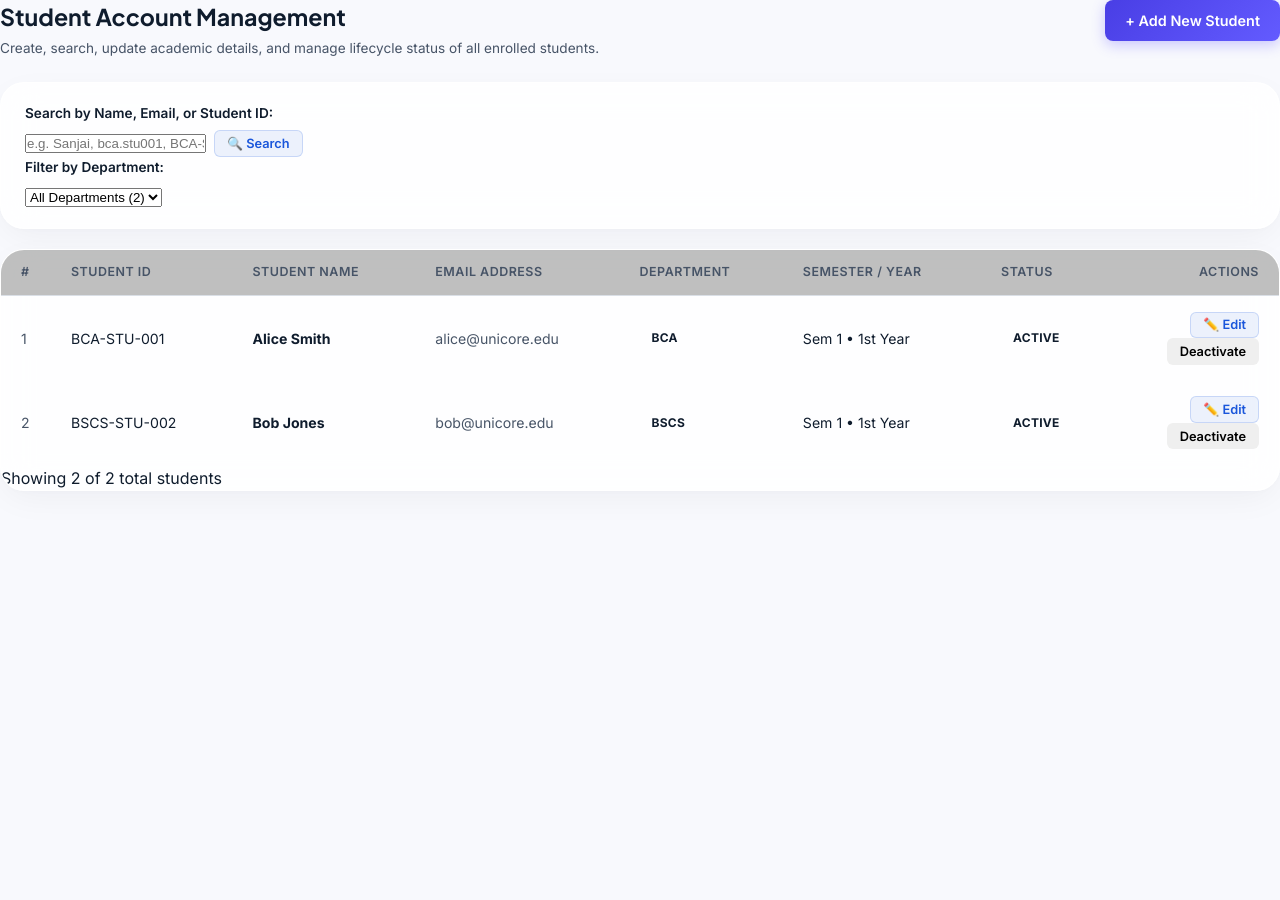
Admin Portal — Student Creation & Automatic Enrollment Tests › handles case where no matching semester courses exist with informative message
Check: the text "Alice Smith" is shown, box top-left (252, 330), bottom-right (330, 347)
Click the button "+ Add New Student".
click(1193, 20)  # box top-left (1105, 0), bottom-right (1279, 41)
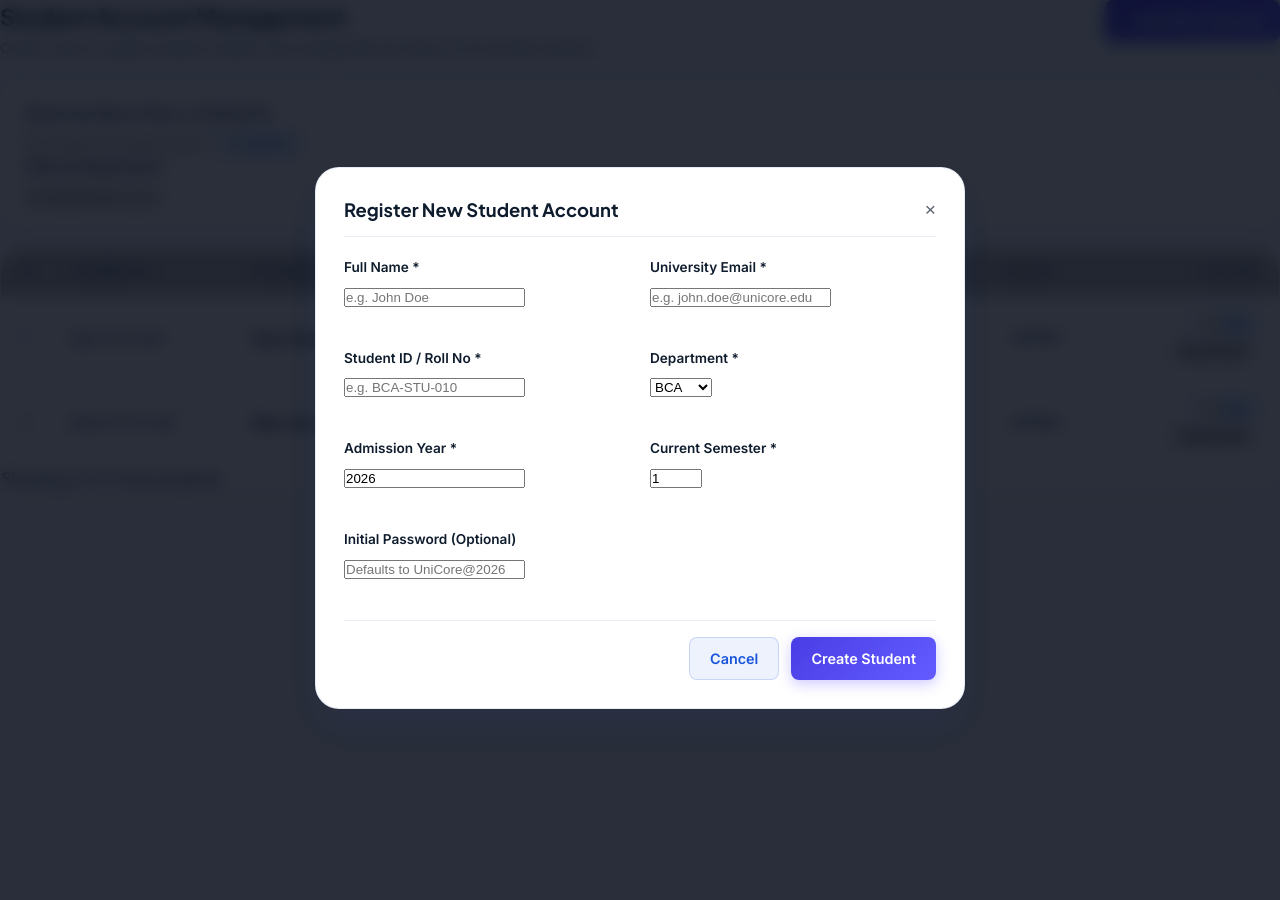
Type "David Miller" into the field labelled "Full Name *".
click(434, 297); type("David Miller")  # box top-left (344, 288), bottom-right (525, 306)
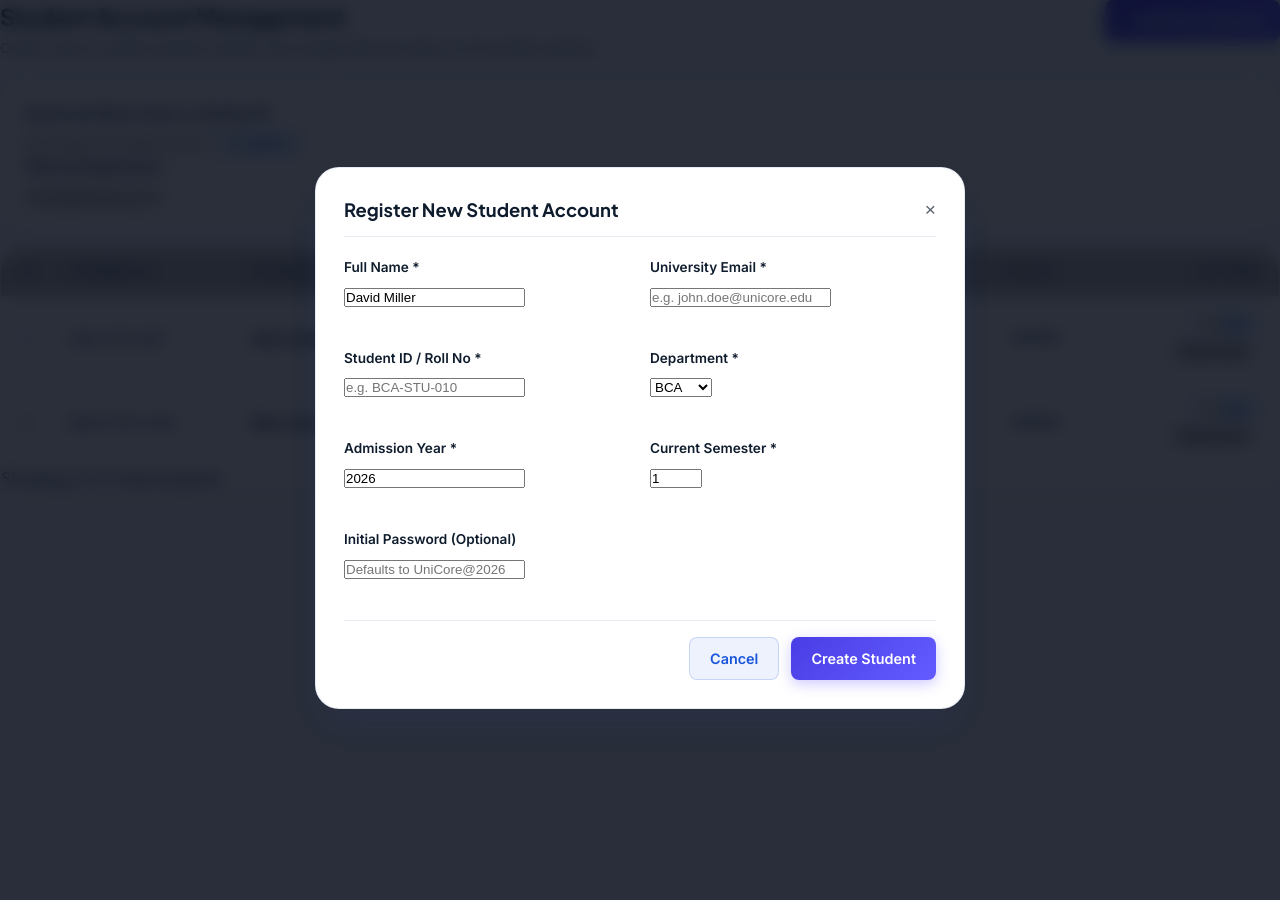
Type "david@unicore.edu" into the field labelled "University Email *".
click(740, 297); type("david@unicore.edu")  # box top-left (650, 288), bottom-right (831, 306)
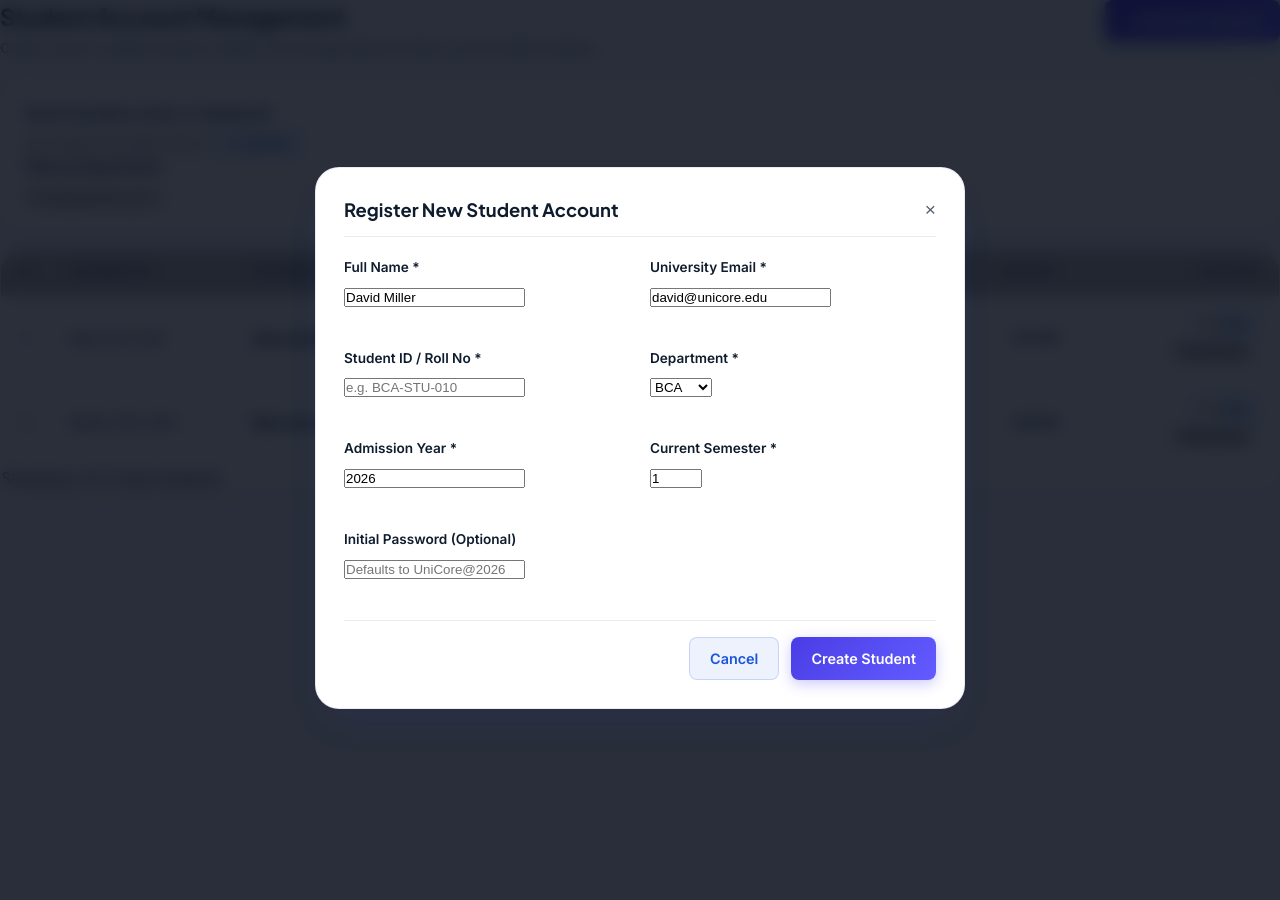
Type "BCA-STU-099" into the field labelled "Student ID / Roll No *".
click(434, 388); type("BCA-STU-099")  # box top-left (344, 378), bottom-right (525, 397)
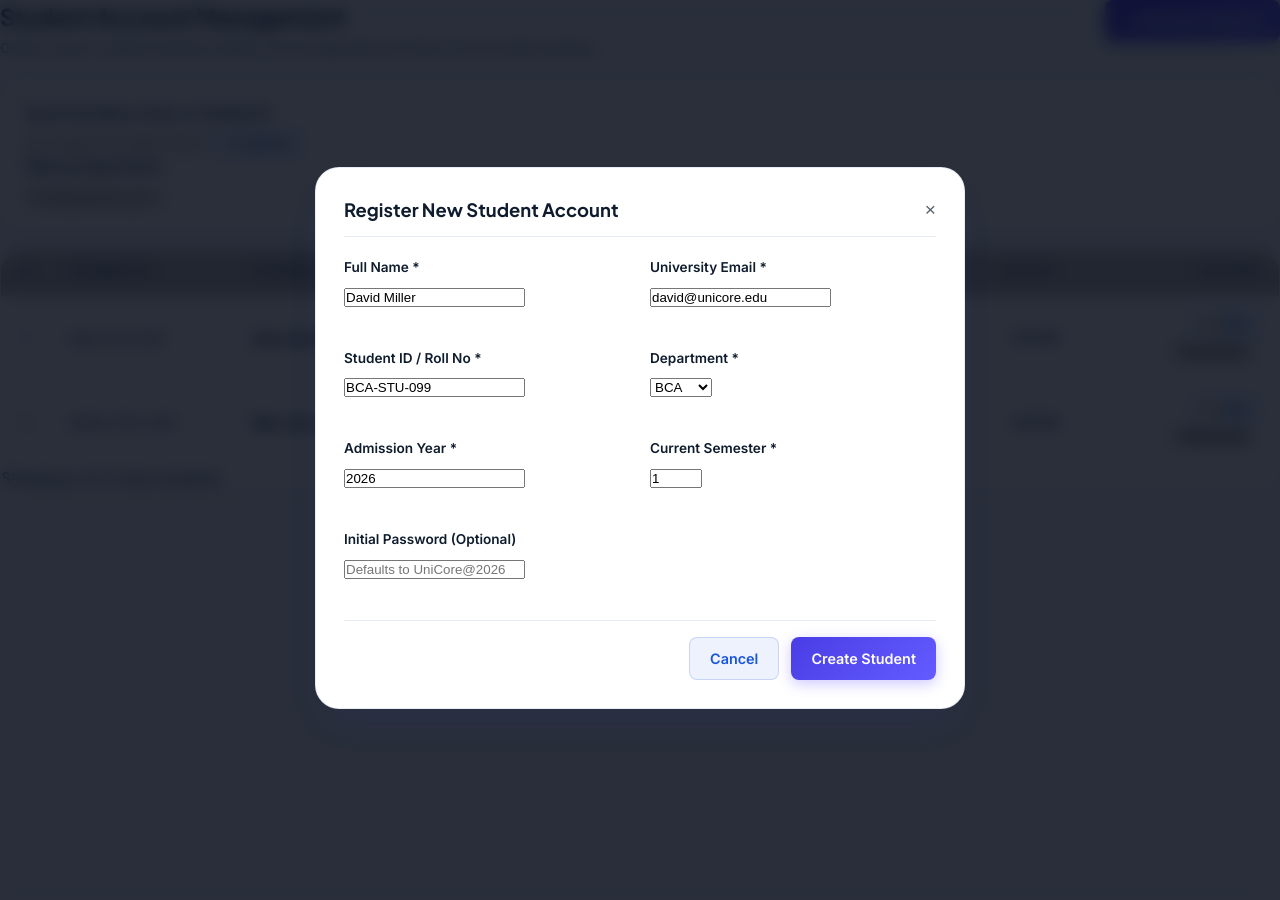
Replace the text in the number field labelled "Current Semester *" with "8" at (676, 479), box top-left (650, 469), bottom-right (702, 488)
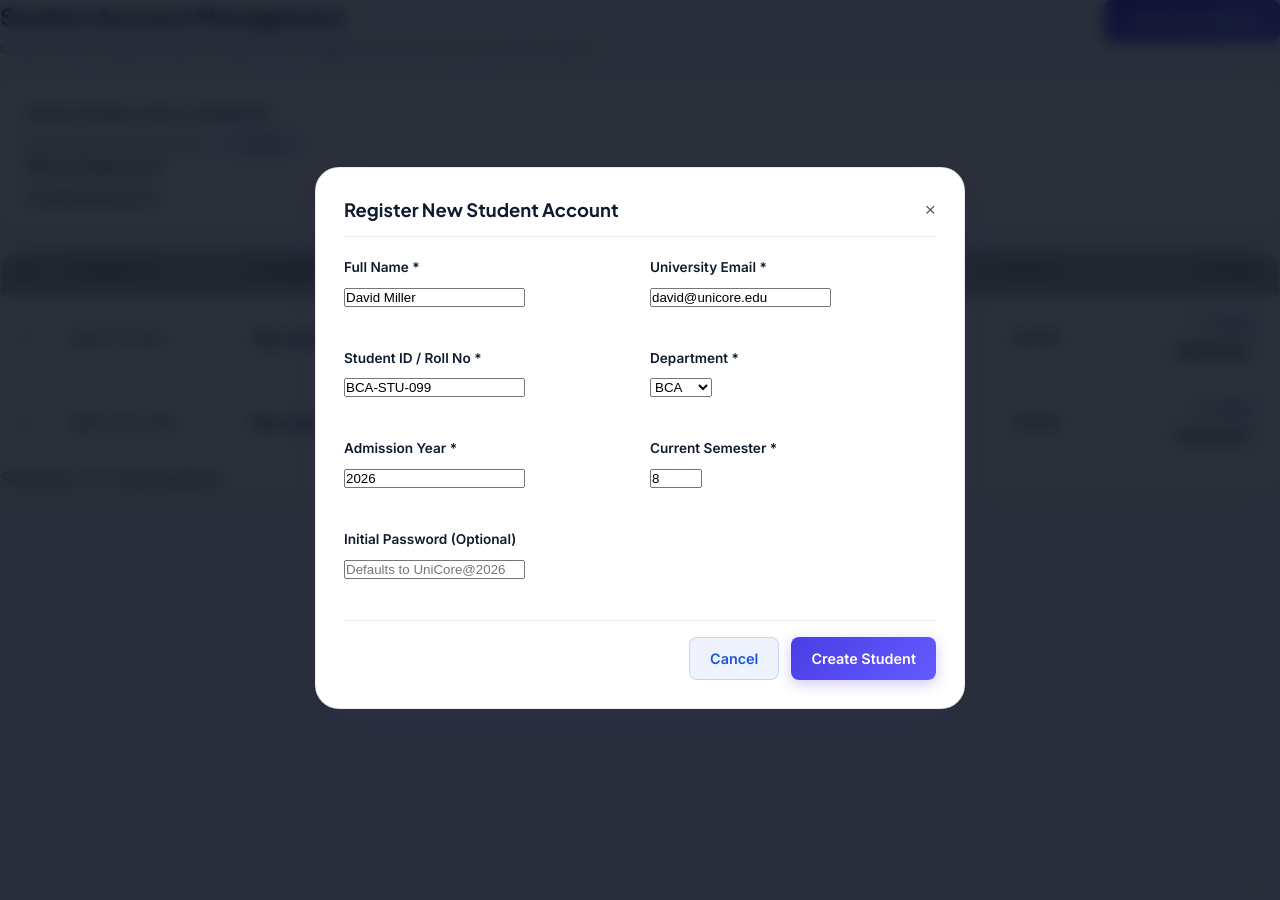
Click the button "Create Student".
click(864, 658)  # box top-left (791, 637), bottom-right (936, 680)
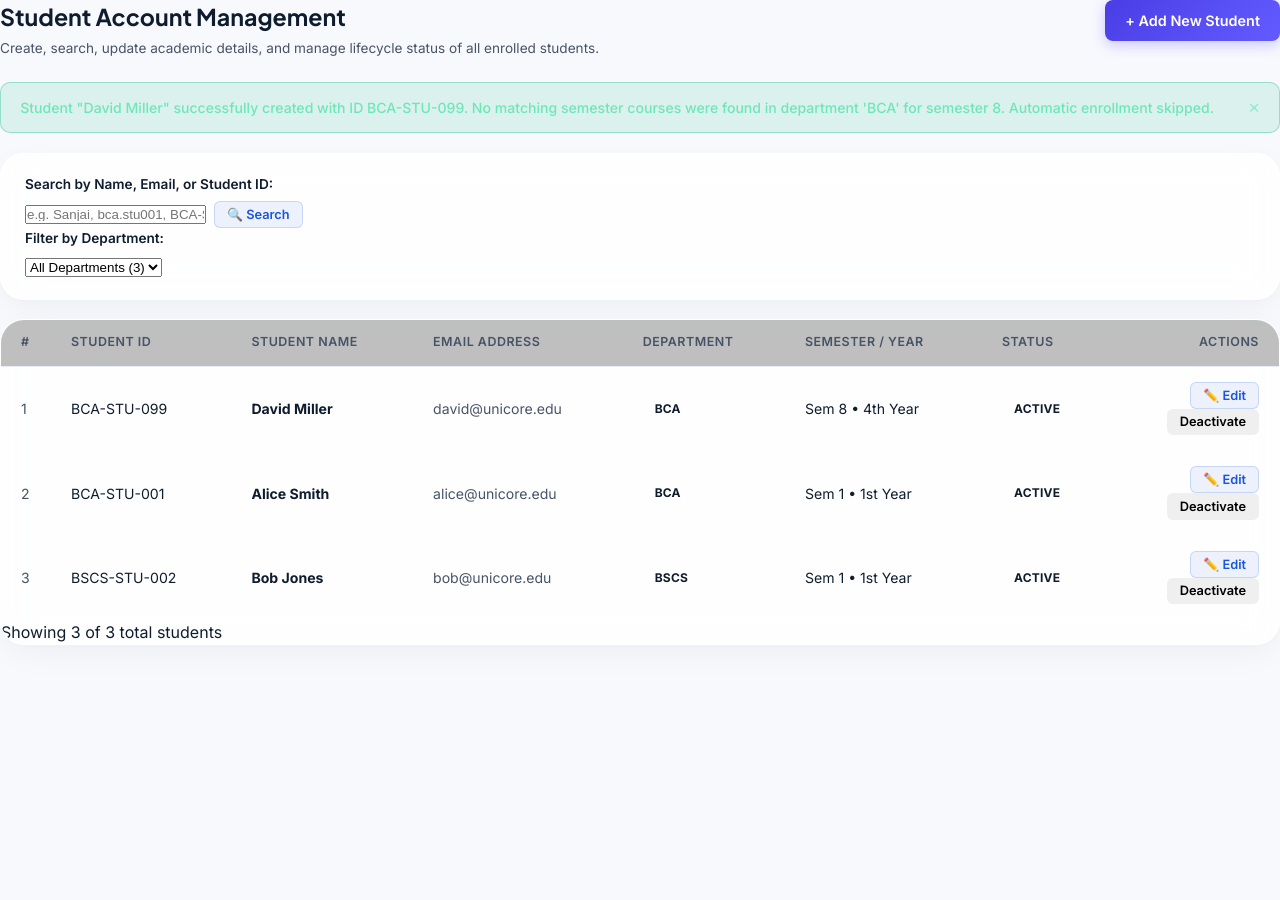
Check: the text "No matching semester courses were found in department 'BCA' for semester 8" is shown, box top-left (20, 99), bottom-right (1214, 116)
